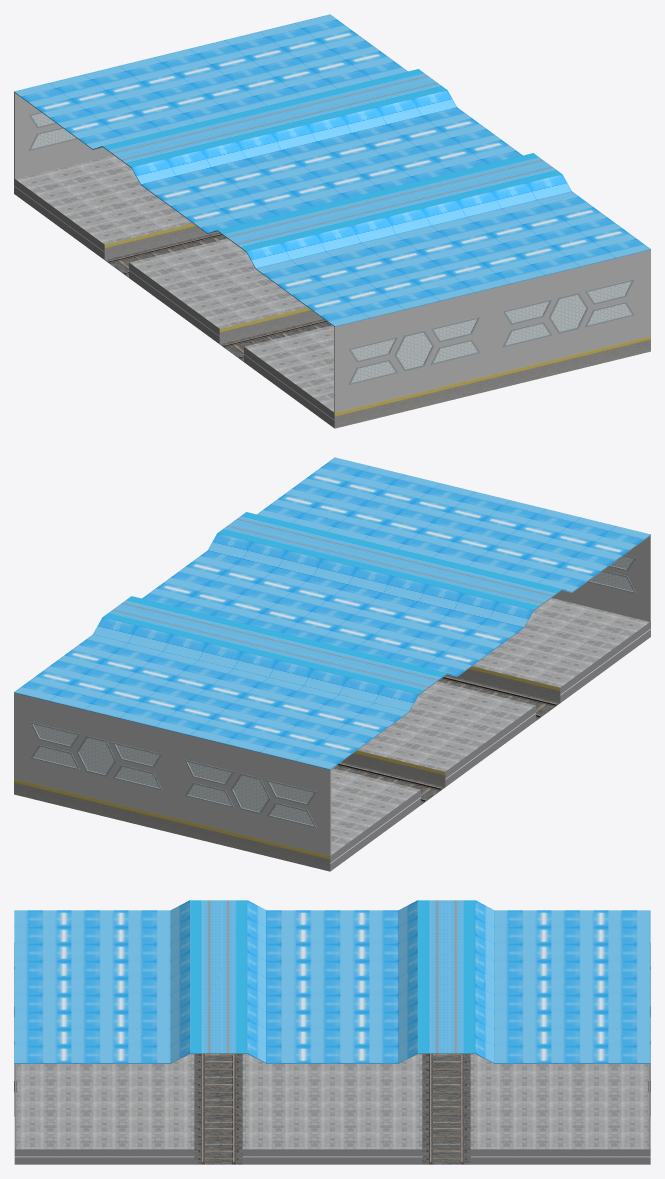
Rendered from Station04A.FBX.
3 renders of one model, top to bottom at view 1: azimuth 30°, elevation 25°; view 2: azimuth 150°, elevation 25°; view 3: azimuth 270°, elevation 25°, orthographic.
Visible parts, largest first — view 1: Station04Roof02, Station04Floors, Station04Wall01, Station04Roof01, Station04Roof03, Station04WallWindGlass, Station04WallWind, Station04FloorWay, Station04Railway; view 2: Station04Roof02, Station04Floors, Station04Wall01, Station04Roof01, Station04Roof03, Station04WallWindGlass, Station04WallWind, Station04FloorWay, Station04Railway; view 3: Station04Roof02, Station04Floors, Station04Roof01, Station04Roof03, Station04FloorWay, Station04Railway, Station04Wall01, Station04WallWind.
Boxes of the visible parts, x1,y1,x2,y2 form: Station04Roof02: (14,14,650,326); Station04Floors: (14,155,650,428); Station04Wall01: (14,92,650,412); Station04Roof01: (102,69,561,251); Station04Roof03: (93,90,571,268); Station04WallWindGlass: (31,113,631,382); Station04WallWind: (29,112,634,384); Station04FloorWay: (105,232,330,361); Station04Railway: (108,233,331,358); Station04Roof02: (14,457,650,769); Station04Floors: (14,598,650,871); Station04Wall01: (14,535,650,855); Station04Roof01: (103,512,562,694); Station04Roof03: (93,533,571,711); Station04WallWindGlass: (33,556,633,825); Station04WallWind: (30,555,636,827); Station04FloorWay: (334,675,559,804); Station04Railway: (333,676,556,801); Station04Roof02: (14,910,650,1063); Station04Floors: (14,1054,650,1164); Station04Roof01: (190,900,475,1053); Station04Roof03: (170,900,494,1063); Station04FloorWay: (194,1054,470,1164); Station04Railway: (198,1054,466,1164); Station04Wall01: (14,1064,650,1149); Station04WallWind: (14,943,650,1116).
Bounding box in the file's own units: 1417 × 482 × 2494.
